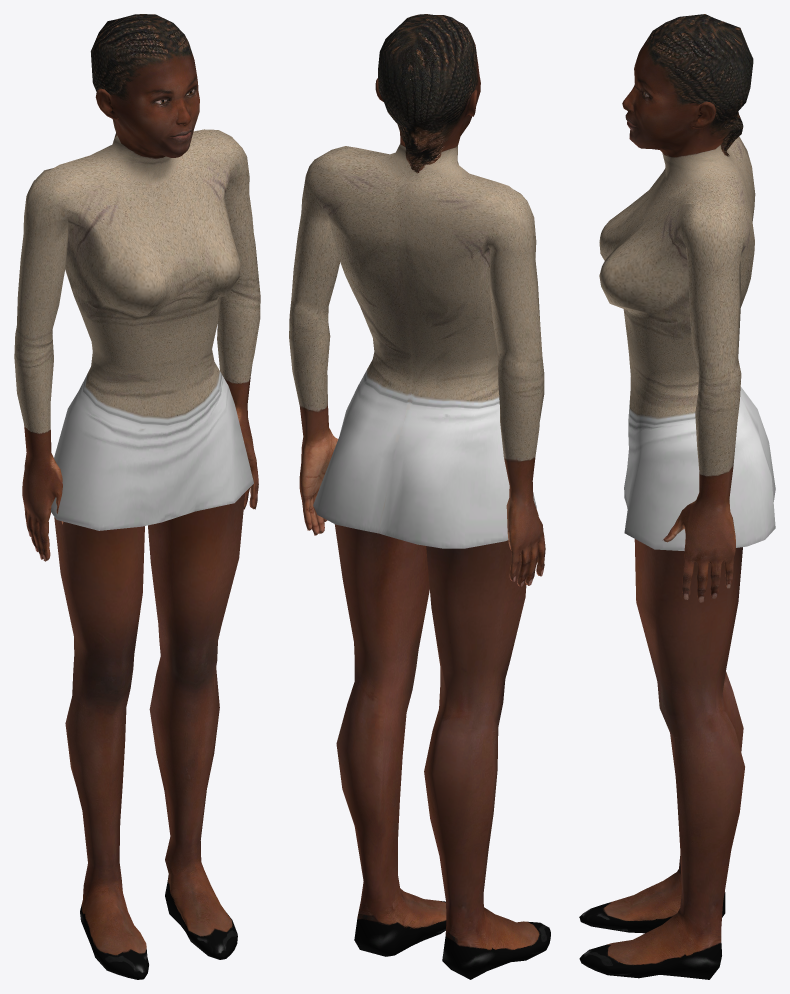
File: Woman_3.gltf
The picture shows the model from 3 angles, left to right: view 1: azimuth 30°, elevation 25°; view 2: azimuth 150°, elevation 25°; view 3: azimuth 270°, elevation 25°; orthographic projection. The views are drawn at different scales.
Parts seen in each view (by area): view 1: Woman_3; view 2: Woman_3; view 3: Woman_3.
Part boxes in pixels (x1,y1,x2,y2): Woman_3: [14, 14, 260, 979]; Woman_3: [289, 14, 550, 979]; Woman_3: [579, 14, 775, 979].
Size of the model in its own units: 0.4687 by 1.69 by 0.3233.
1 material, 1 textured.
